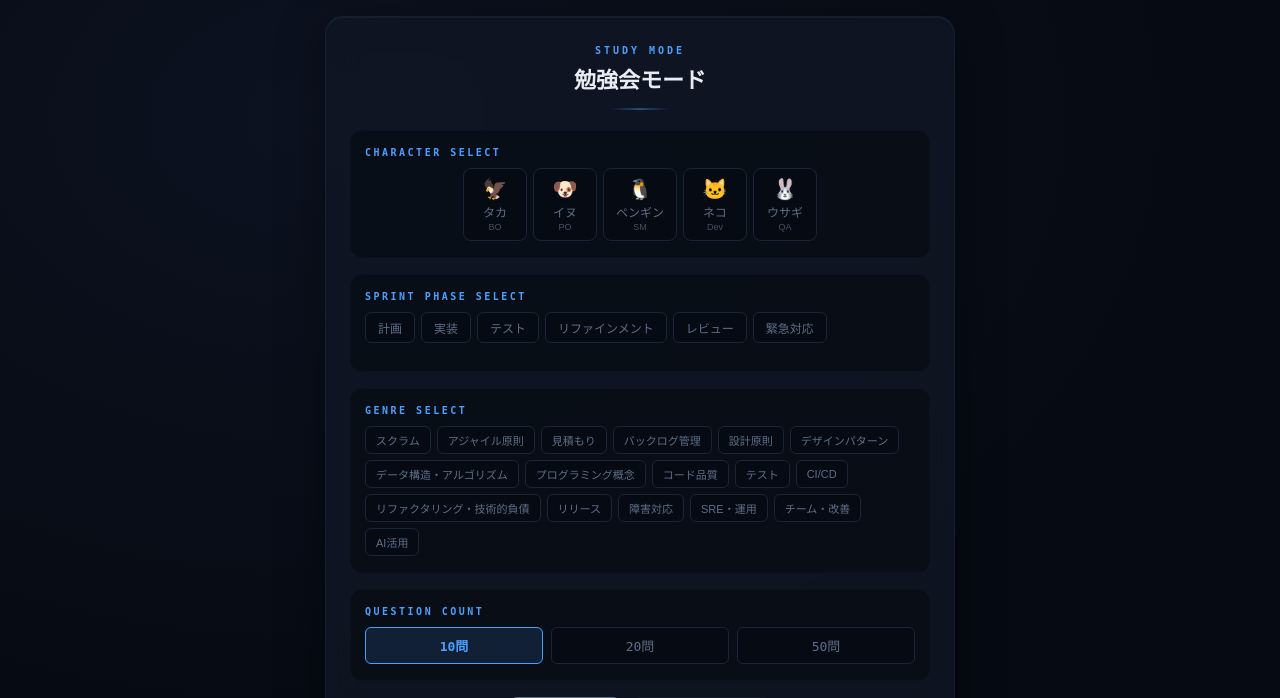
Test: StudySelectScreen - キャラクター選択 › キャラクター選択でジャンル自動選択 › キャラクターをクリックすると関連ジャンルが選択される
//  タカをクリック
Step 1. Click the text "タカ" → point(495, 212), box [483,203,507,220]
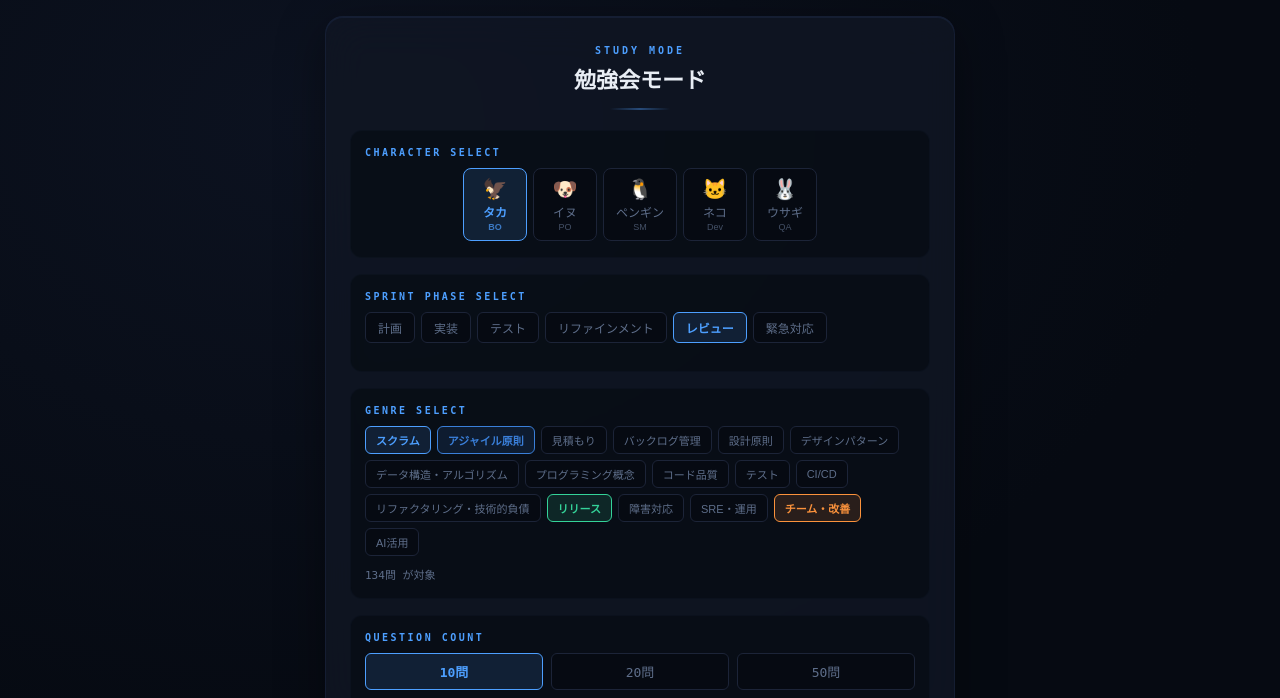
Expected: the button "アジャイル原則" is shown, [437,426,535,454]
Result: the text "134問 が対象" is shown at [365,569,436,582]
